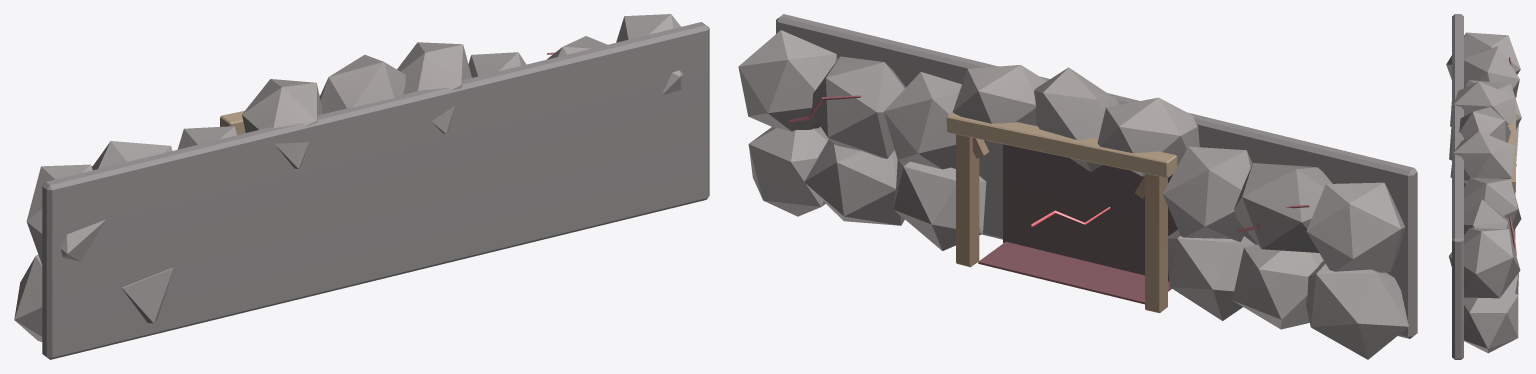
Rendered from BM_EntranceOpen.glb.
3 views of the same model, side by side, from view 1: azimuth 30°, elevation 25°; view 2: azimuth 150°, elevation 25°; view 3: azimuth 270°, elevation 25° (orthographic). The views are drawn at different scales.
Parts seen in each view (by area): view 1: Body; view 2: Body; view 3: Body.
Boxes of the visible parts, box(x1,y1,x2,y2) form: Body: box(14, 14, 709, 359); Body: box(738, 14, 1417, 359); Body: box(1446, 14, 1521, 359).
Bounding box in the file's own units: 55.78 × 16.62 × 7.64.
